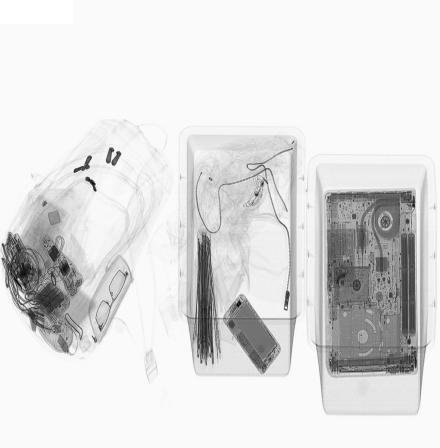Powerbank: (30, 279, 68, 321)
